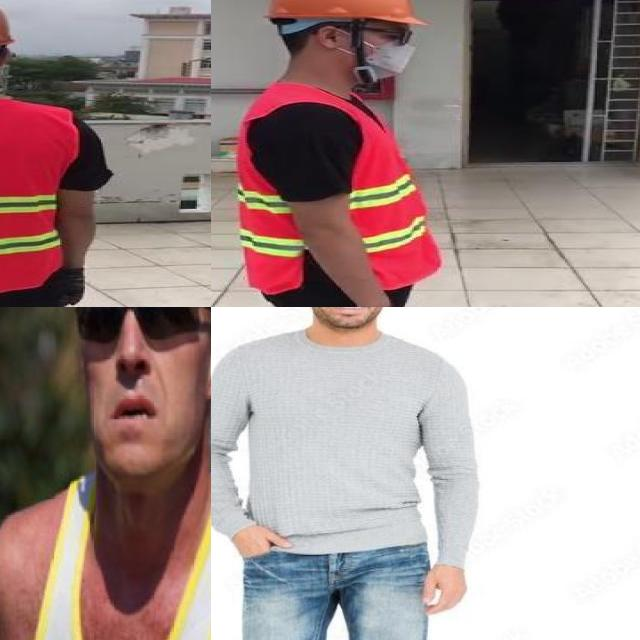face_mask: (349, 18, 427, 84)
face_nomask: (74, 307, 199, 435), (314, 307, 383, 326)
glasses: (77, 307, 211, 341)
hand_glove: (54, 267, 88, 307)
hand_noglove: (414, 547, 470, 621), (216, 517, 300, 564)
head_helmet: (264, 0, 413, 27)
person: (211, 307, 481, 640), (224, 0, 478, 307), (0, 307, 211, 640), (0, 0, 136, 307)
vest: (238, 87, 442, 293), (0, 99, 72, 288)
